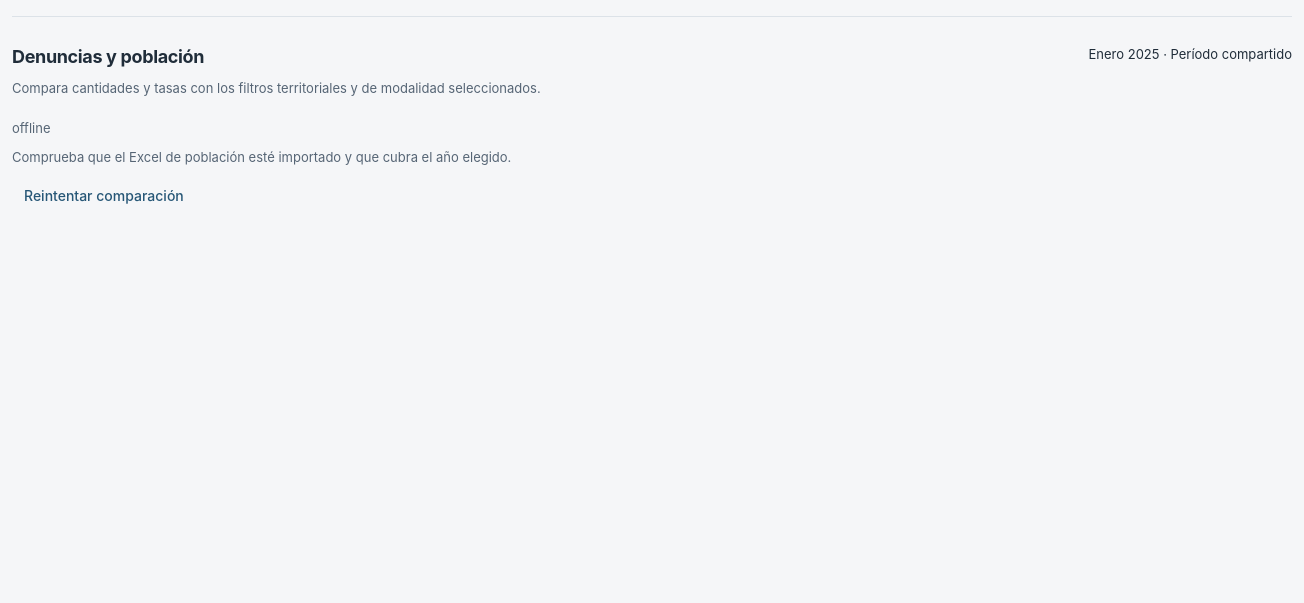
Scenario: PopulationComparison › offers retry after an API failure
Click the button "Reintentar comparación".
click(104, 196)  # box [12,178,196,214]
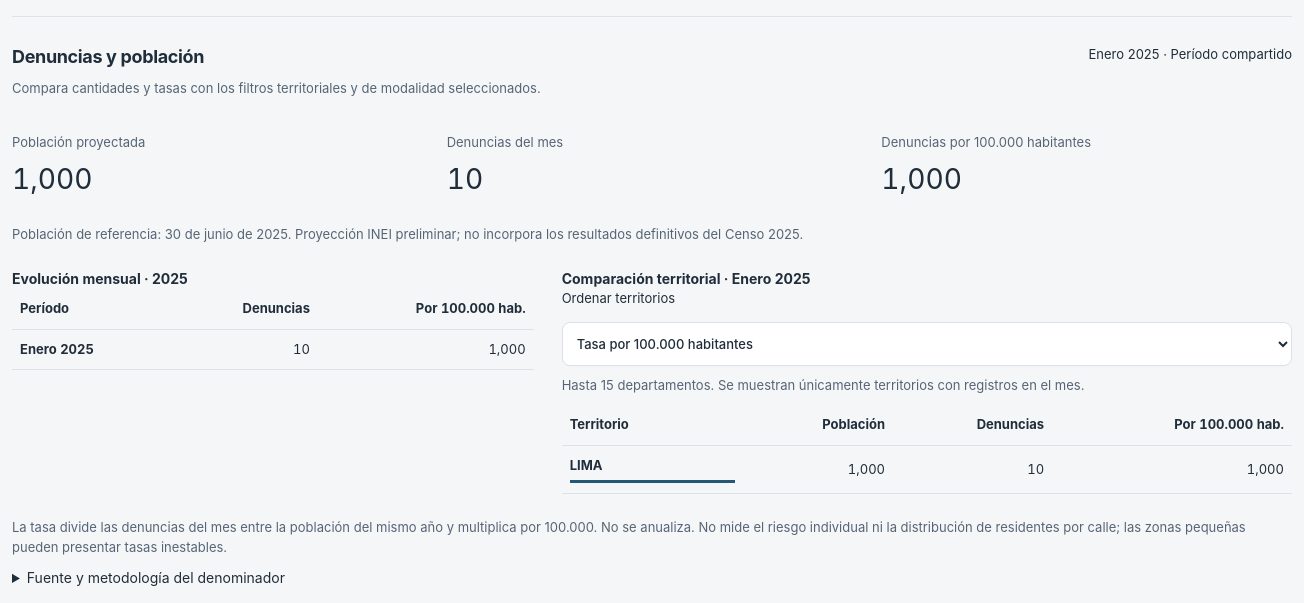
Expected: the column heading "LIMA" is shown, [562,445,743,494]
